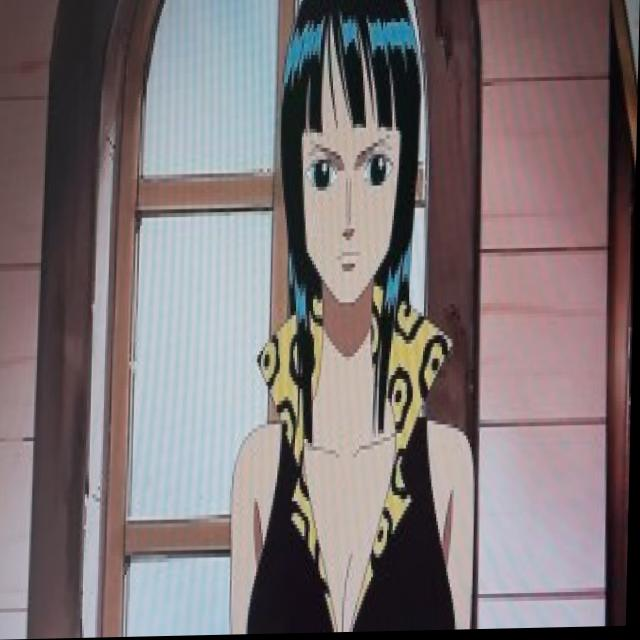NicoRobin: (260, 0, 433, 351)
